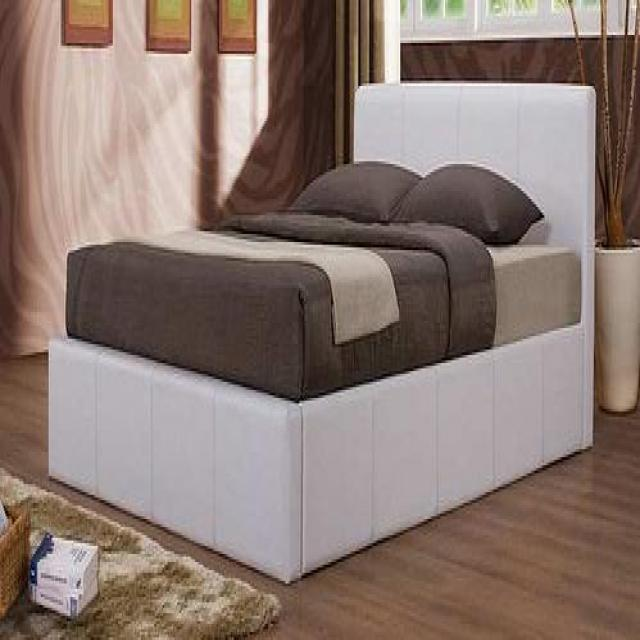bed: (48, 71, 597, 585)
